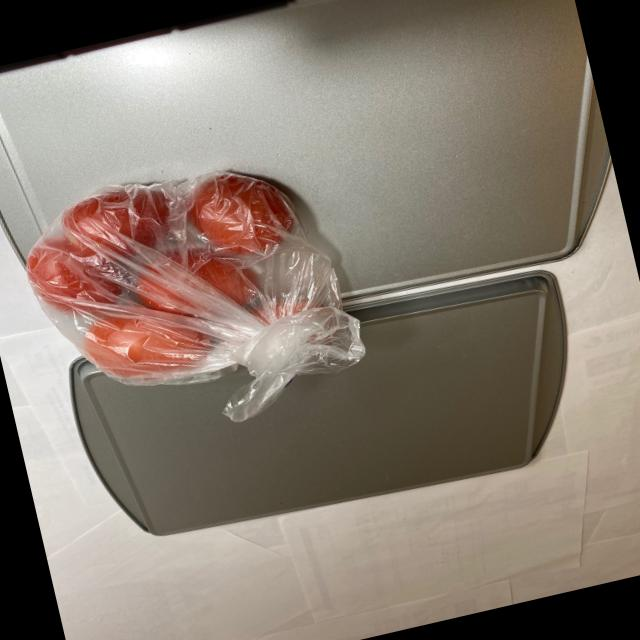tomato: (8, 143, 356, 415)
